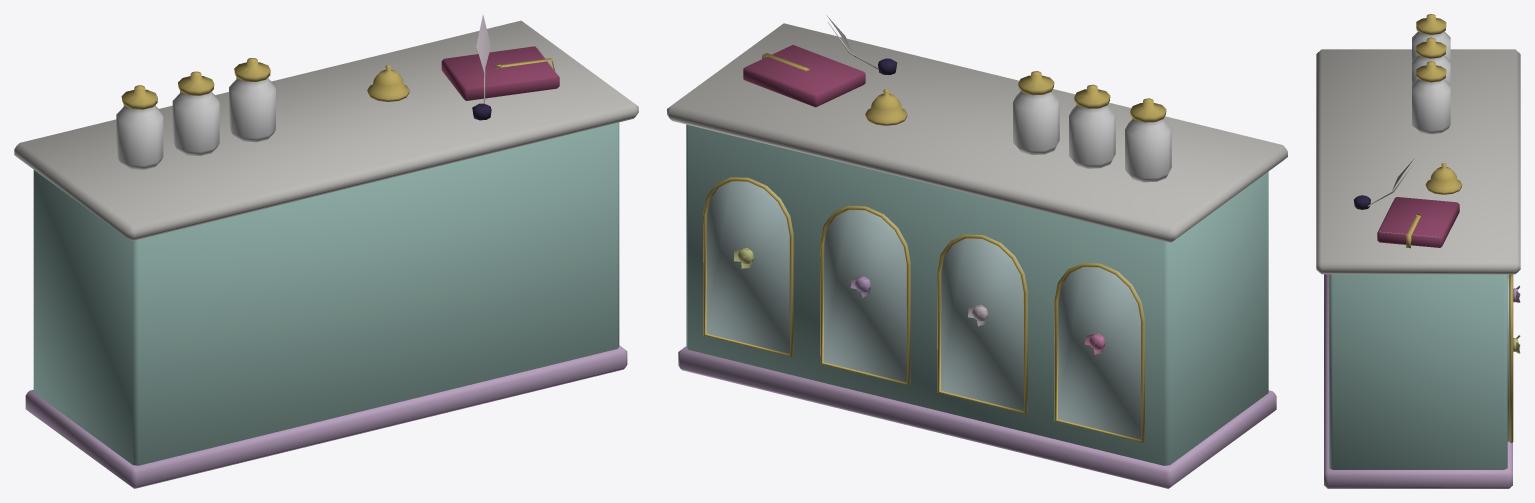
File: potion_counter.glb
The picture shows the model from 3 angles, left to right: view 1: azimuth 30°, elevation 25°; view 2: azimuth 150°, elevation 25°; view 3: azimuth 270°, elevation 25°; orthographic projection. The views are drawn at different scales.
Visible parts, largest first — view 1: potion_counter; view 2: potion_counter; view 3: potion_counter.
Part boxes in pixels (left/top/right/bottom): potion_counter: left=14, top=14, right=638, bottom=488; potion_counter: left=667, top=15, right=1287, bottom=488; potion_counter: left=1316, top=14, right=1520, bottom=488.
Size of what is drawn, in the model's own units: 2 by 1.28 by 0.8.
